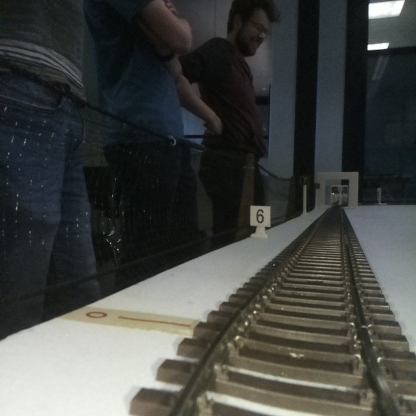black-info-7: (301, 175, 309, 214)
white-stop-6: (250, 205, 270, 237)
